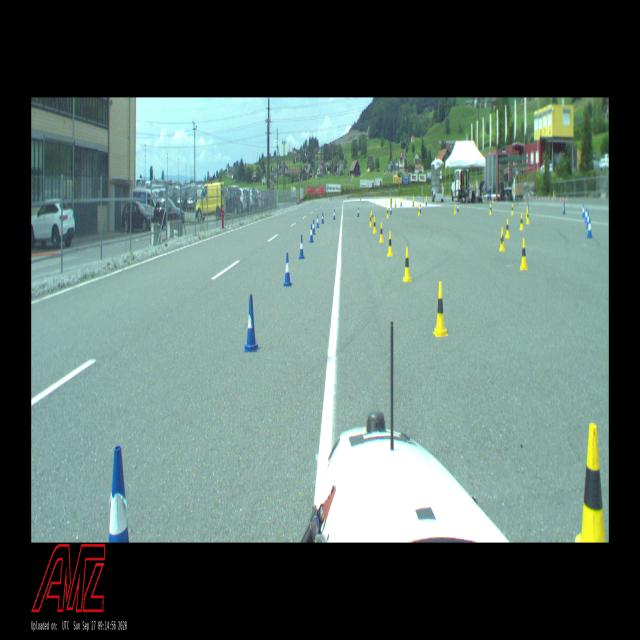blue_cone: (109, 446, 130, 542), (245, 294, 258, 352), (284, 252, 292, 286), (299, 235, 304, 259), (588, 218, 592, 238), (310, 225, 314, 242), (312, 220, 316, 234), (316, 215, 320, 228), (586, 212, 589, 228), (582, 205, 585, 217), (333, 209, 336, 220), (321, 212, 324, 223), (586, 208, 588, 221), (563, 202, 565, 214), (457, 203, 459, 212), (390, 187, 392, 196), (358, 208, 360, 216), (390, 206, 392, 214), (489, 184, 491, 191), (489, 192, 491, 198), (420, 203, 421, 213), (491, 202, 492, 211), (528, 202, 529, 211), (400, 202, 402, 206), (412, 202, 414, 206), (331, 192, 332, 198), (423, 193, 424, 199), (329, 192, 330, 197), (426, 202, 427, 206), (423, 199, 424, 202), (488, 191, 488, 199)
orange_cone: (562, 196, 564, 200), (538, 197, 540, 200), (447, 194, 449, 197), (566, 196, 567, 201), (560, 196, 561, 201), (555, 196, 556, 200), (545, 197, 546, 201), (536, 196, 537, 200), (527, 197, 528, 201), (548, 197, 549, 200), (542, 197, 543, 200), (552, 197, 553, 200), (524, 197, 525, 200), (530, 197, 531, 200), (329, 196, 329, 202), (327, 194, 327, 198), (533, 197, 533, 200)
yellow_cone: (572, 427, 609, 542), (434, 281, 447, 336), (403, 248, 411, 281), (520, 239, 528, 270), (387, 232, 393, 256), (379, 223, 384, 242), (500, 228, 504, 250), (506, 219, 510, 238), (520, 213, 523, 230), (373, 218, 376, 233), (369, 213, 372, 227), (527, 210, 529, 223), (371, 210, 373, 222), (526, 206, 528, 218), (512, 204, 514, 215), (418, 205, 420, 216), (386, 208, 388, 218), (489, 205, 491, 214), (454, 205, 456, 214), (413, 194, 414, 202), (390, 201, 392, 205), (395, 198, 396, 205), (401, 196, 402, 203), (390, 197, 392, 200), (489, 200, 491, 203), (492, 198, 493, 203), (424, 198, 425, 203), (405, 196, 406, 200), (488, 200, 489, 203), (395, 205, 396, 208), (374, 200, 375, 203), (386, 201, 386, 207), (426, 196, 426, 201), (484, 198, 484, 202), (554, 190, 554, 197)
